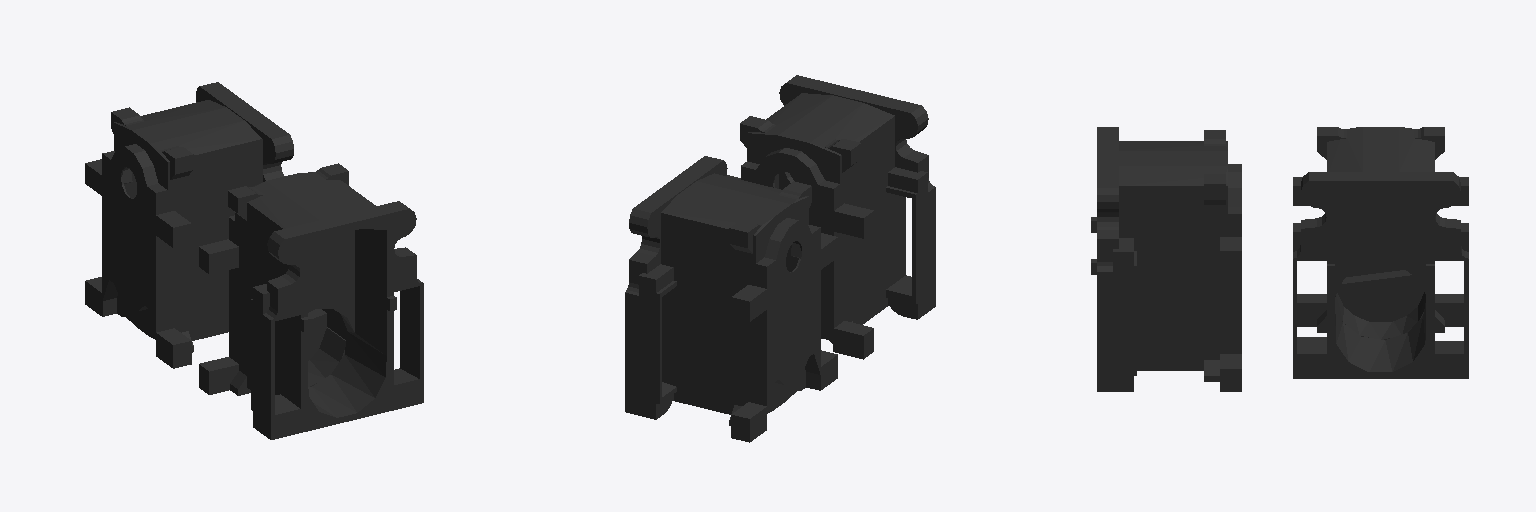
Rendered from Dual_Servo_Al_022__1__1_mesh_4.obj.
3 views of the same model, side by side, from view 1: azimuth 30°, elevation 25°; view 2: azimuth 150°, elevation 25°; view 3: azimuth 270°, elevation 25° (orthographic).
Size of the model in its own units: 0.033 by 0.0408 by 0.0707.